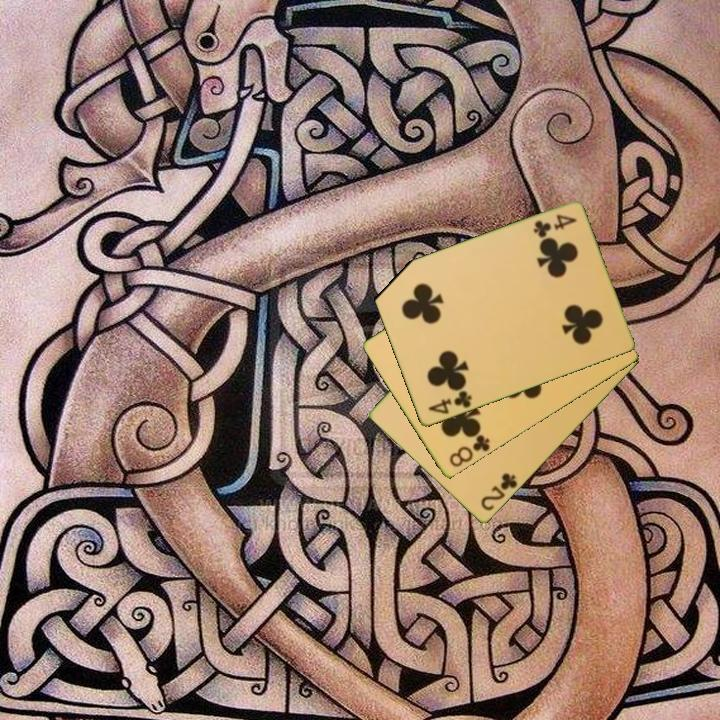2c: (477, 469, 520, 514)
4c: (425, 387, 475, 418), (529, 211, 579, 240)
8c: (445, 429, 493, 470)
